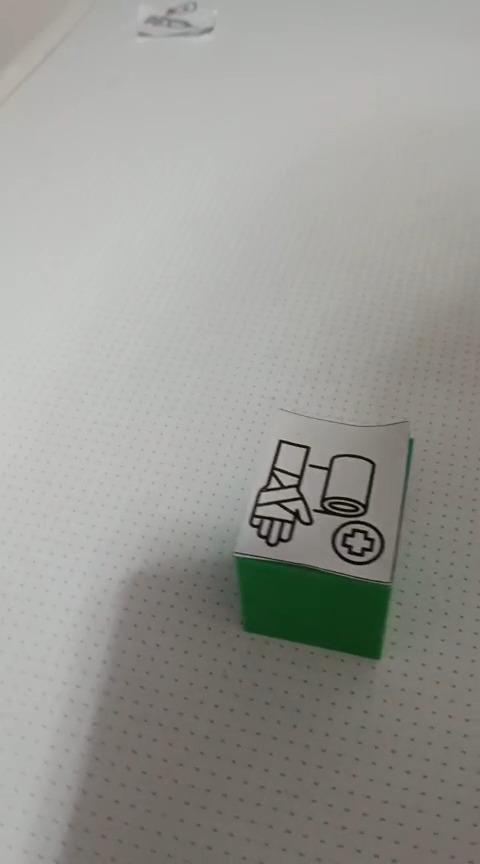Bandages: (231, 406, 413, 660)
